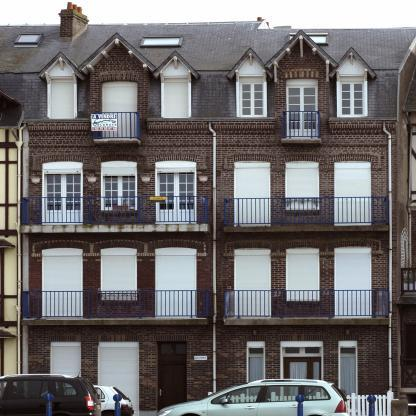Balcony: (20, 196, 208, 232), (21, 290, 210, 325), (223, 197, 388, 232), (223, 290, 388, 325), (94, 111, 140, 143), (281, 111, 321, 143)
Blind: (42, 255, 83, 318), (334, 249, 371, 318), (156, 255, 196, 318), (234, 250, 271, 317), (334, 163, 371, 226), (234, 163, 270, 226), (103, 81, 137, 139), (286, 250, 319, 300), (101, 256, 136, 301), (286, 163, 318, 209), (165, 79, 188, 117), (52, 80, 74, 118)
Building Outline: (0, 2, 416, 416)
Cornice: (30, 239, 208, 257), (31, 153, 208, 171), (222, 151, 383, 169), (222, 238, 383, 256), (98, 71, 140, 82), (284, 69, 319, 79), (280, 335, 324, 341), (97, 335, 140, 341), (153, 335, 189, 341), (48, 335, 81, 341), (337, 334, 359, 340), (245, 335, 267, 341)
Dont: (157, 379, 402, 416), (18, 368, 134, 416)
Door: (100, 347, 137, 416), (157, 255, 194, 318), (44, 256, 81, 318), (336, 254, 370, 318), (157, 169, 195, 225), (44, 169, 81, 225), (236, 255, 269, 317), (335, 168, 370, 225), (236, 168, 269, 226), (287, 86, 318, 138), (105, 88, 136, 140), (159, 361, 187, 416), (286, 358, 312, 413)
Facade: (19, 20, 399, 416)
Floor: (20, 231, 397, 320), (20, 144, 397, 226)
Floor Slab: (20, 227, 397, 232), (20, 320, 397, 325), (20, 139, 397, 144)
Ground Floor: (20, 325, 397, 416)
Roof: (0, 20, 416, 130)
Top Floor: (0, 20, 416, 130)
Window: (103, 255, 136, 300), (287, 254, 318, 300), (104, 167, 136, 209), (286, 168, 318, 209), (52, 346, 80, 386), (165, 79, 188, 117), (52, 80, 74, 118), (240, 83, 264, 117), (341, 82, 364, 116), (341, 347, 356, 396), (249, 348, 263, 396), (283, 347, 322, 355), (142, 37, 181, 45), (159, 343, 187, 354), (290, 36, 326, 43), (314, 362, 320, 395), (17, 34, 40, 42)
